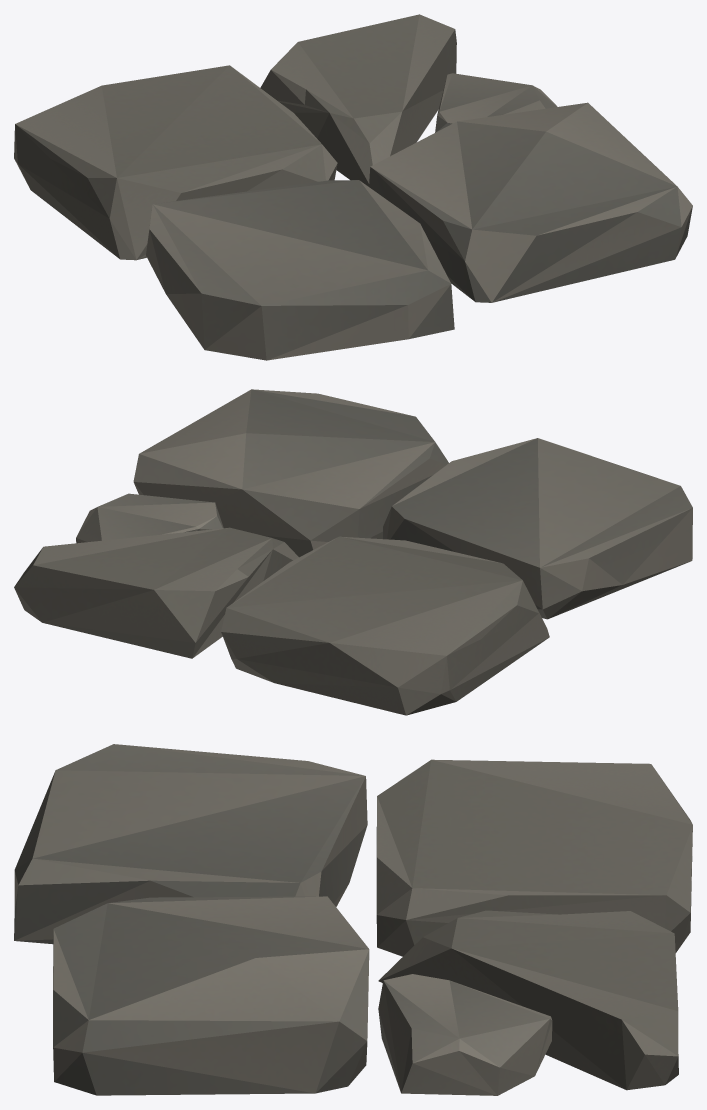
The model's file is Floor_Br_2.fbx.
The picture shows the model from 3 angles, top to bottom: view 1: azimuth 30°, elevation 25°; view 2: azimuth 150°, elevation 25°; view 3: azimuth 270°, elevation 25°; orthographic projection. The views are drawn at different scales.
Parts seen in each view (by area): view 1: polySurface570; view 2: polySurface570; view 3: polySurface570.
Part boxes in pixels (box(x1,y1,x2,y2)): polySurface570: box(14, 14, 692, 360); polySurface570: box(14, 389, 692, 715); polySurface570: box(14, 744, 692, 1095).
Bounding box in the file's own units: 217 × 33.93 × 216.
1 material, 1 textured.
